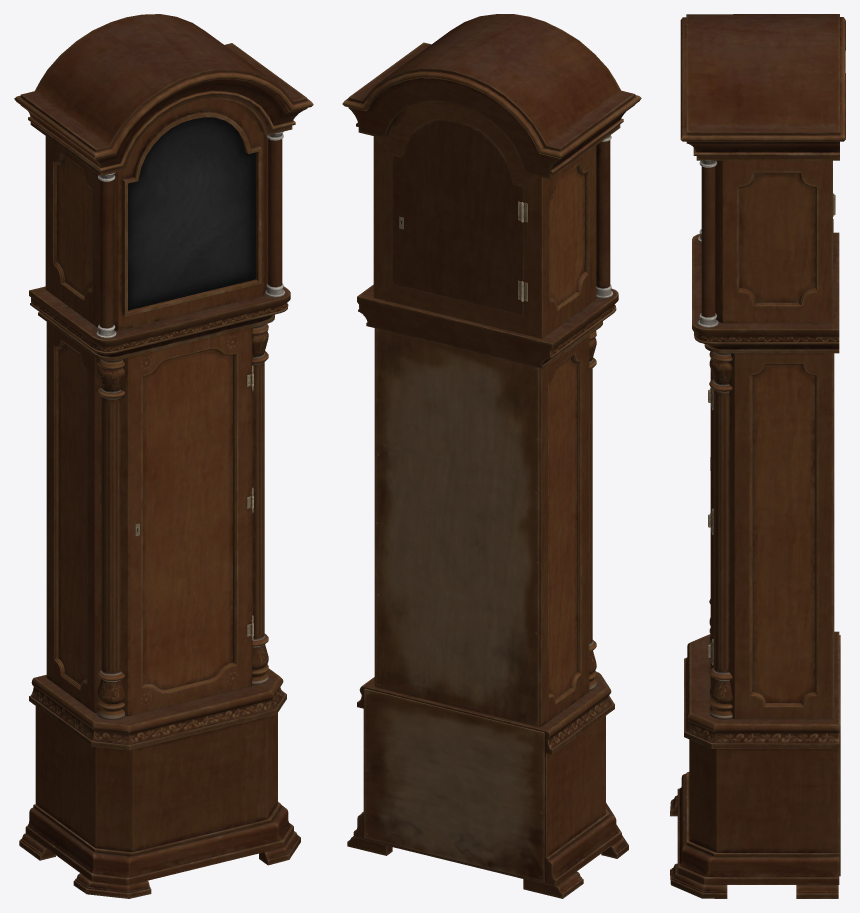
The model's file is grandfather-clock.glb.
3 views of the same model, side by side, from view 1: azimuth 30°, elevation 25°; view 2: azimuth 150°, elevation 25°; view 3: azimuth 270°, elevation 25° (orthographic). The views are drawn at different scales.
Parts seen in each view (by area): view 1: vintage_grandfather_clock_01_Body; view 2: vintage_grandfather_clock_01_Body; view 3: vintage_grandfather_clock_01_Body.
Part boxes in pixels (x1,y1,x2,y2): vintage_grandfather_clock_01_Body: (14,14,313,898); vintage_grandfather_clock_01_Body: (342,14,641,898); vintage_grandfather_clock_01_Body: (670,14,845,898).
Size of the model in its own units: 0.6256 by 2.19 by 0.4267.
2 materials, 2 textured.
